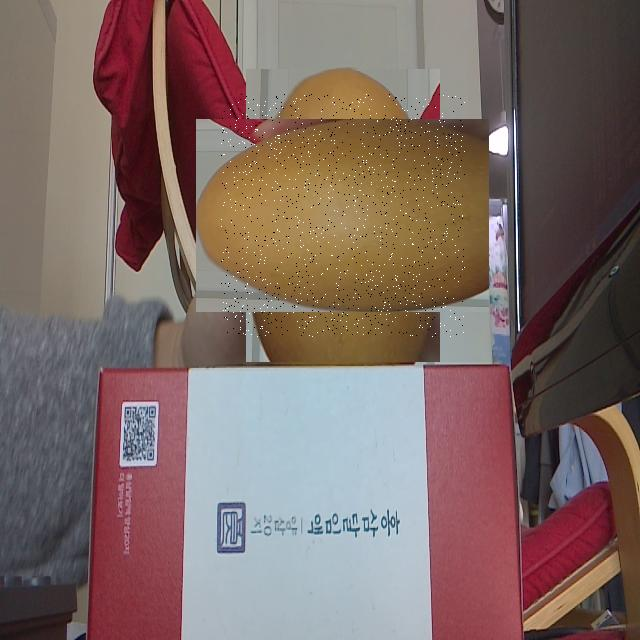pear: (221, 94, 465, 337)
